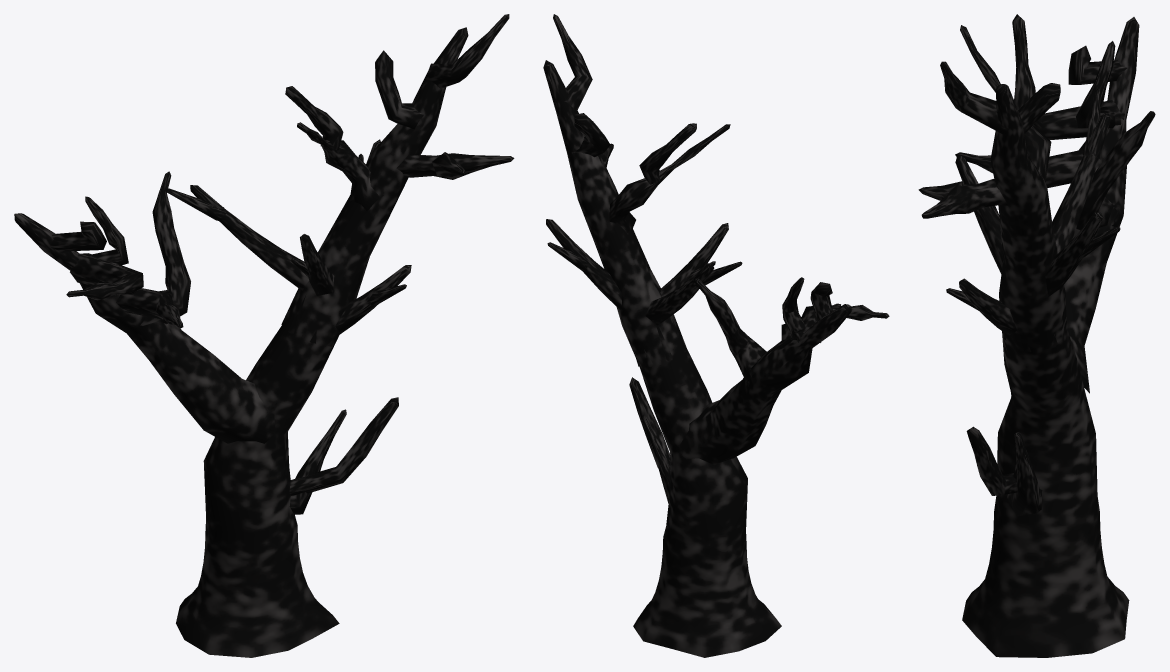
The model's file is CreTree05a.glb.
3 views of the same model, side by side, from view 1: azimuth 30°, elevation 25°; view 2: azimuth 150°, elevation 25°; view 3: azimuth 270°, elevation 25° (orthographic). The views are drawn at different scales.
Visible parts, largest first — view 1: CreTree05a_limbs; view 2: CreTree05a_limbs; view 3: CreTree05a_limbs.
Part boxes in pixels (x1=…): CreTree05a_limbs: x1=14, y1=14, x2=514, y2=657; CreTree05a_limbs: x1=543, y1=14, x2=889, y2=657; CreTree05a_limbs: x1=918, y1=14, x2=1155, y2=657.
Bounding box in the file's own units: 6.17 × 8.47 × 2.69.
Materials: 1 (1 with a texture image).
